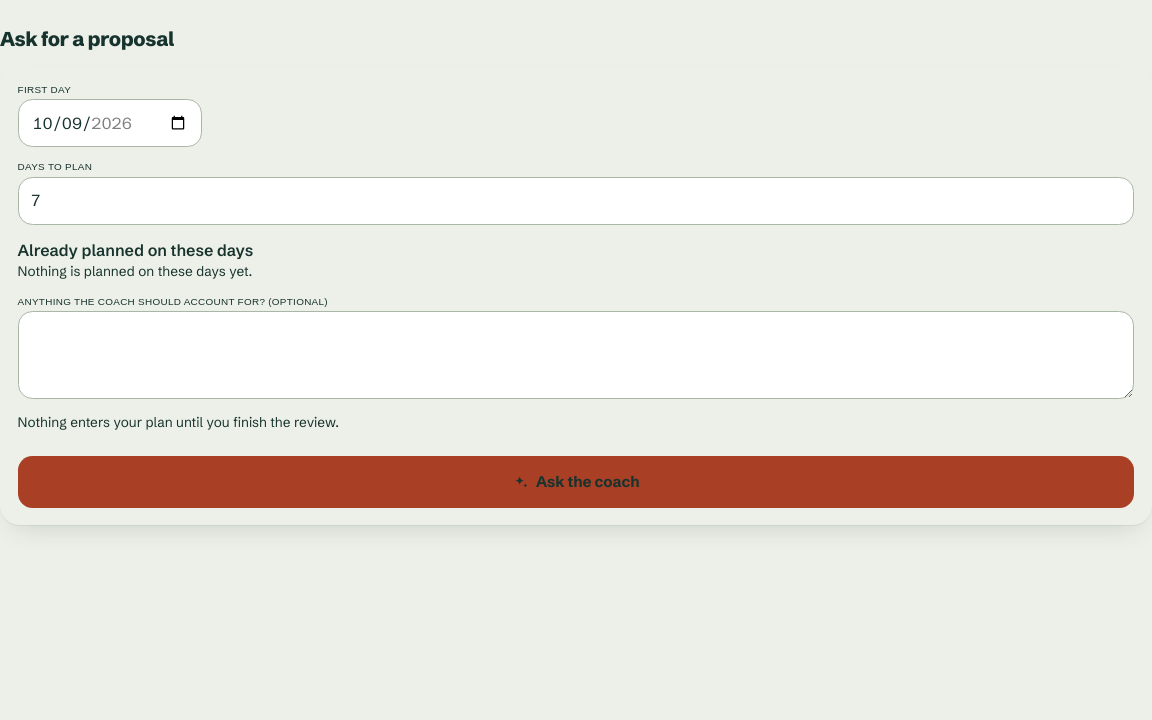
Test: ComposeProposal › asks nothing without an active goal, and offers the way to Goals instead
The width and height of the screenshot is (1152, 720).
Click the button "Ask the coach" at (576, 482), box x1=18 y1=456 x2=1134 y2=508
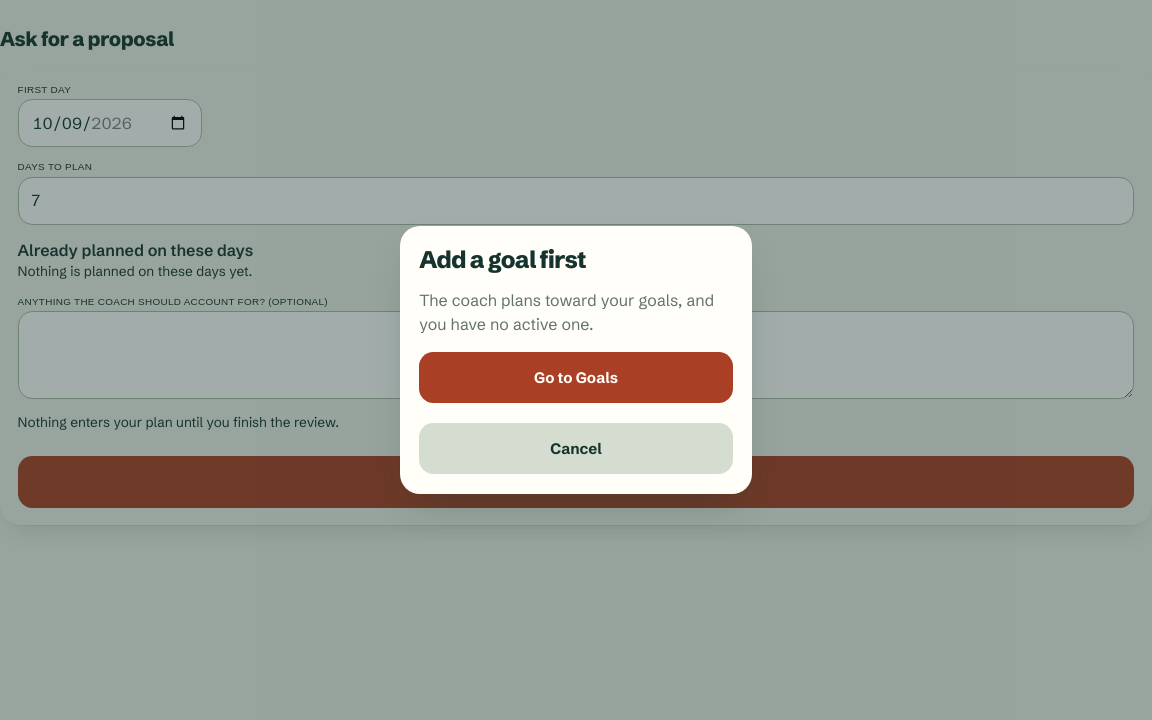
Click the button "Cancel" at (576, 449), box x1=419 y1=423 x2=733 y2=474
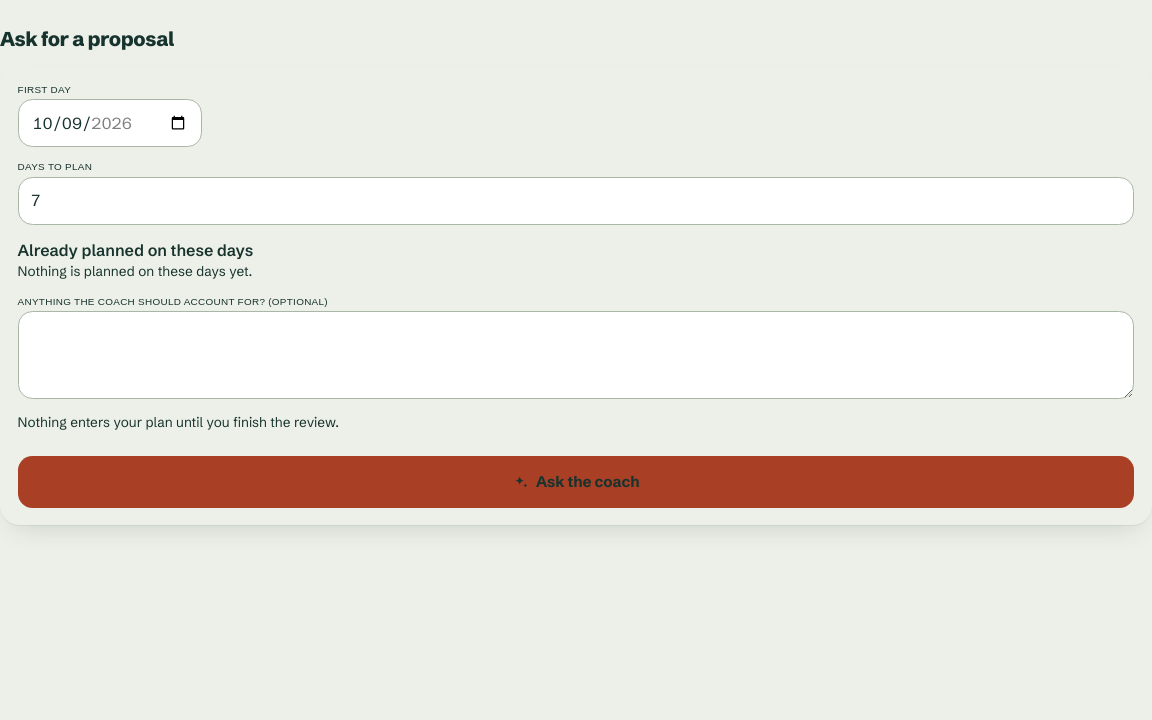
expect the dialog is gone: met
